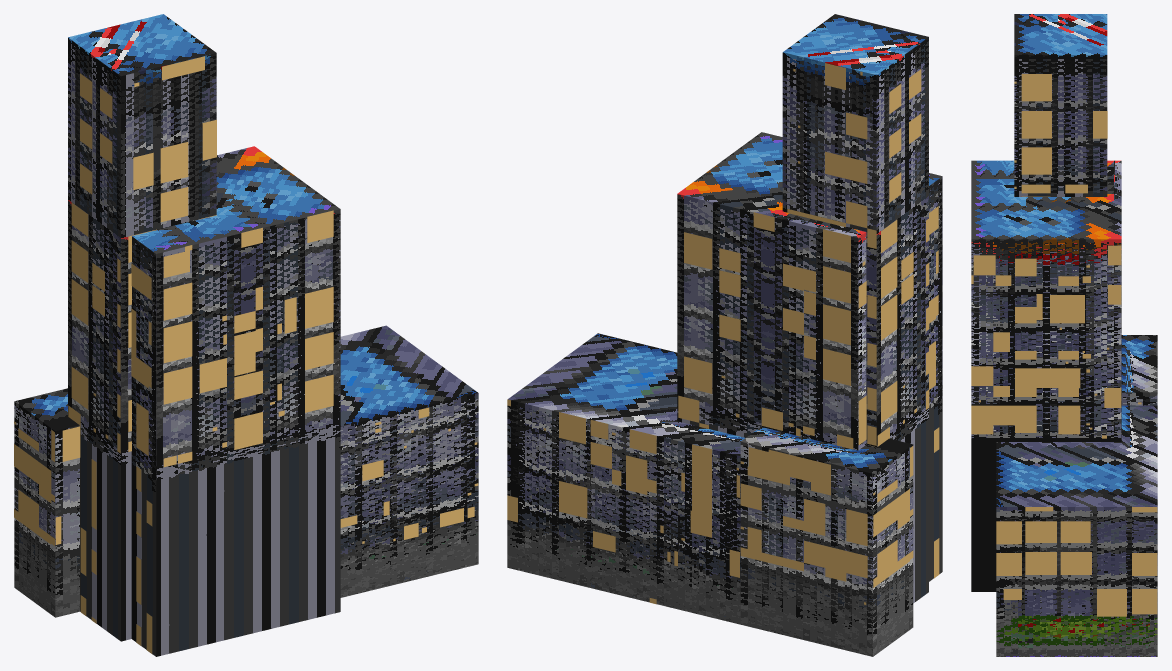
The model's file is dum_57_vysoky.glb.
3 renders of one model, left to right at view 1: azimuth 30°, elevation 25°; view 2: azimuth 150°, elevation 25°; view 3: azimuth 270°, elevation 25°, orthographic. The views are drawn at different scales.
Parts seen in each view (by area): view 1: object 1, noc; view 2: object 1, noc; view 3: object 1, noc.
Boxes of the visible parts, bbox=[...] form: object 1: bbox=[14, 14, 478, 656]; noc: bbox=[14, 56, 478, 653]; object 1: bbox=[507, 14, 942, 656]; noc: bbox=[507, 63, 939, 604]; object 1: bbox=[971, 14, 1157, 656]; noc: bbox=[971, 74, 1157, 616].
Size of the model in its own units: 24.32 by 35.25 by 12.07.
1 material, 1 textured.
